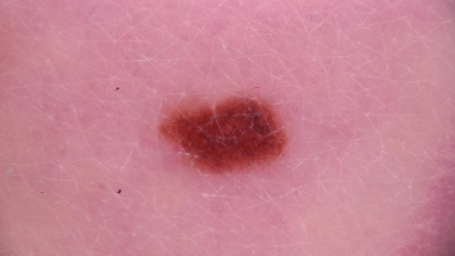melanoma: (161, 100, 286, 173)
